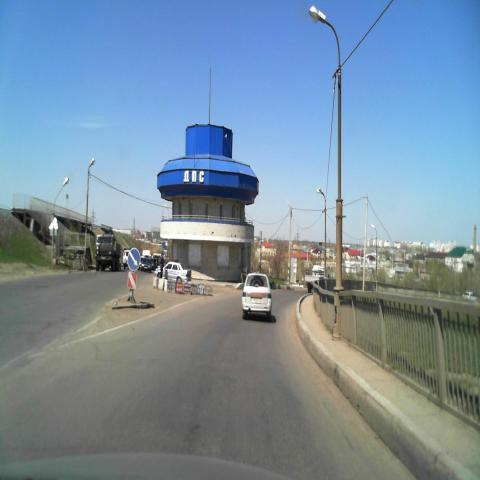4_2_1: (127, 247, 141, 271)
